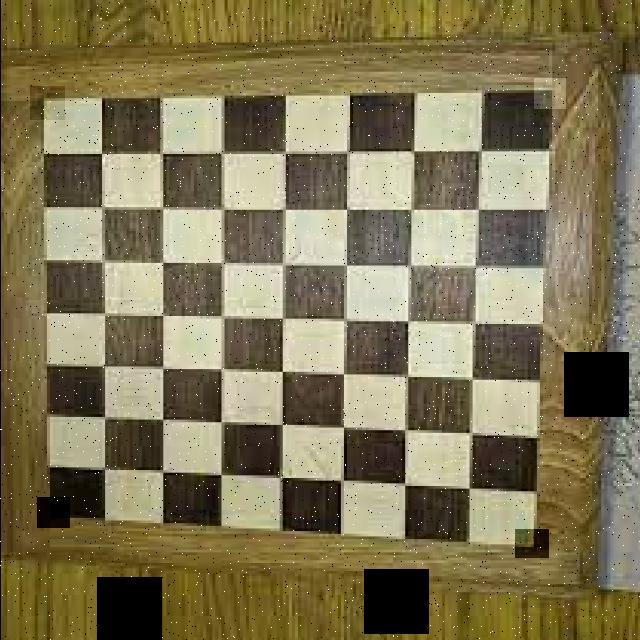chess-table-corners: (29, 86, 64, 120), (36, 497, 69, 528), (533, 78, 565, 109), (514, 529, 548, 558)
